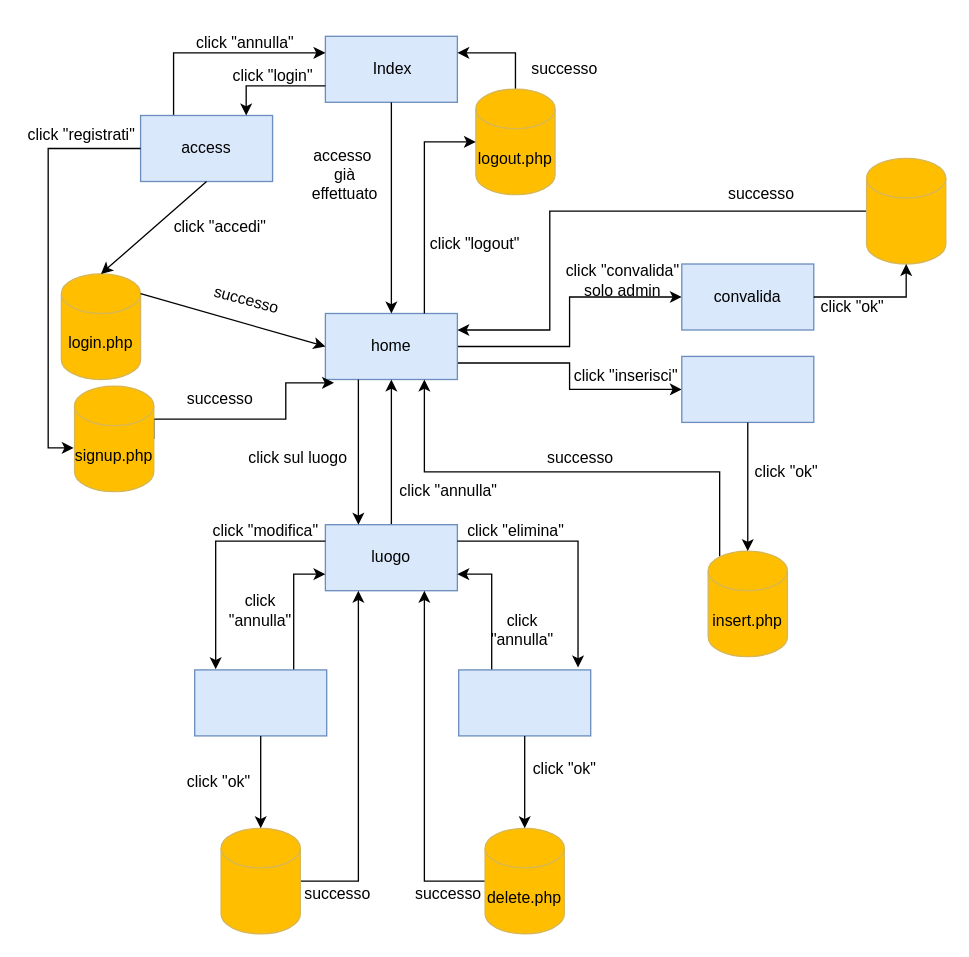
Image size: 969x957. Some labels were removed from this diagram. Here are the shapes that lost their labels. From the top down, the centre of each, then its label:
At [905,210]: "active.php".
At [747,388]: "inserisci".
At [260,702]: "modifica".
At [524,702]: "elimina".
At [260,880]: "edit.php".
